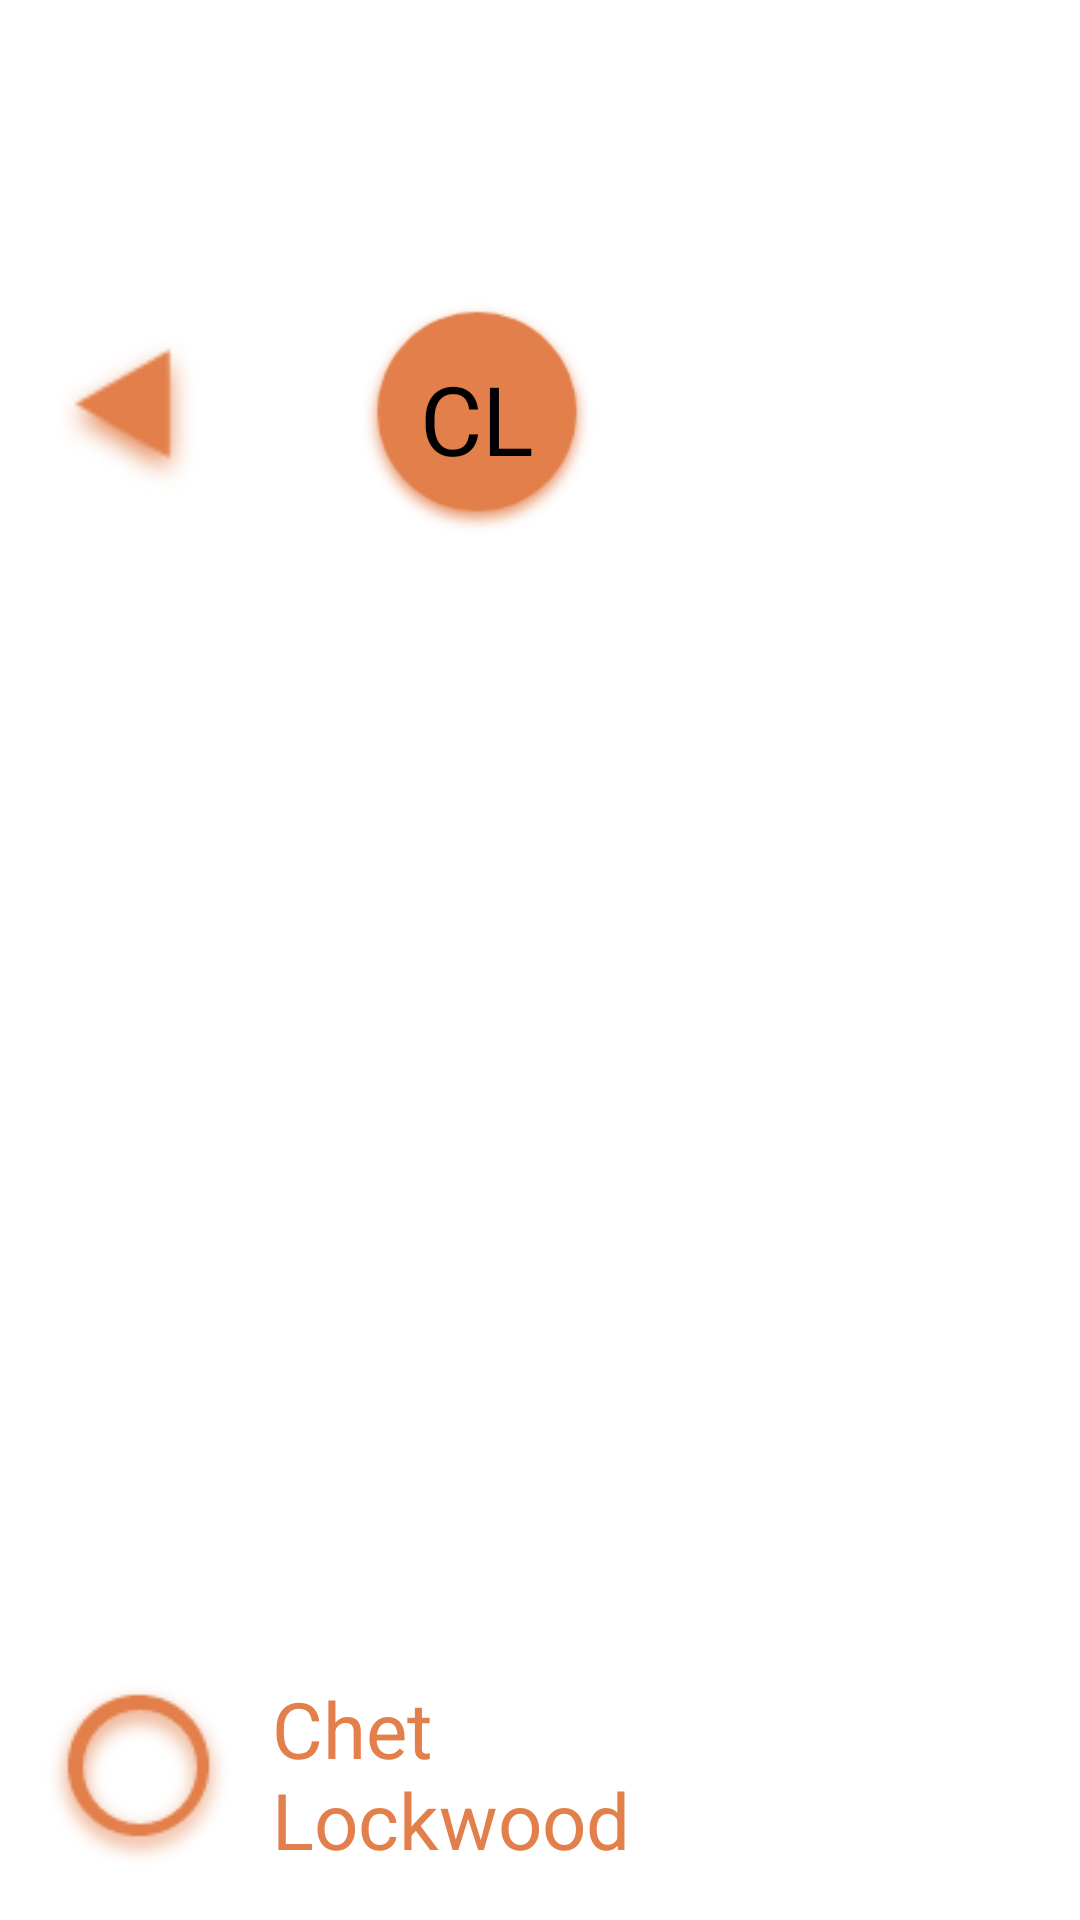

Where to tap for icons on this 1080px×1920px app screen, as point (x, y):
back: point (128, 410)
circle: point (138, 1774)
